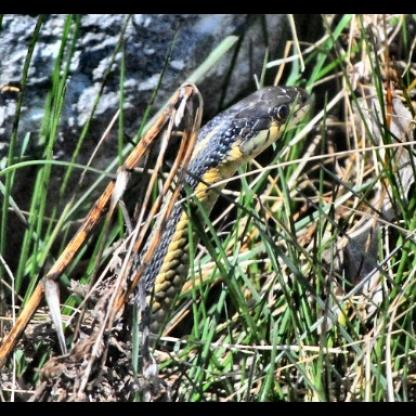Snake: (127, 81, 314, 325)
